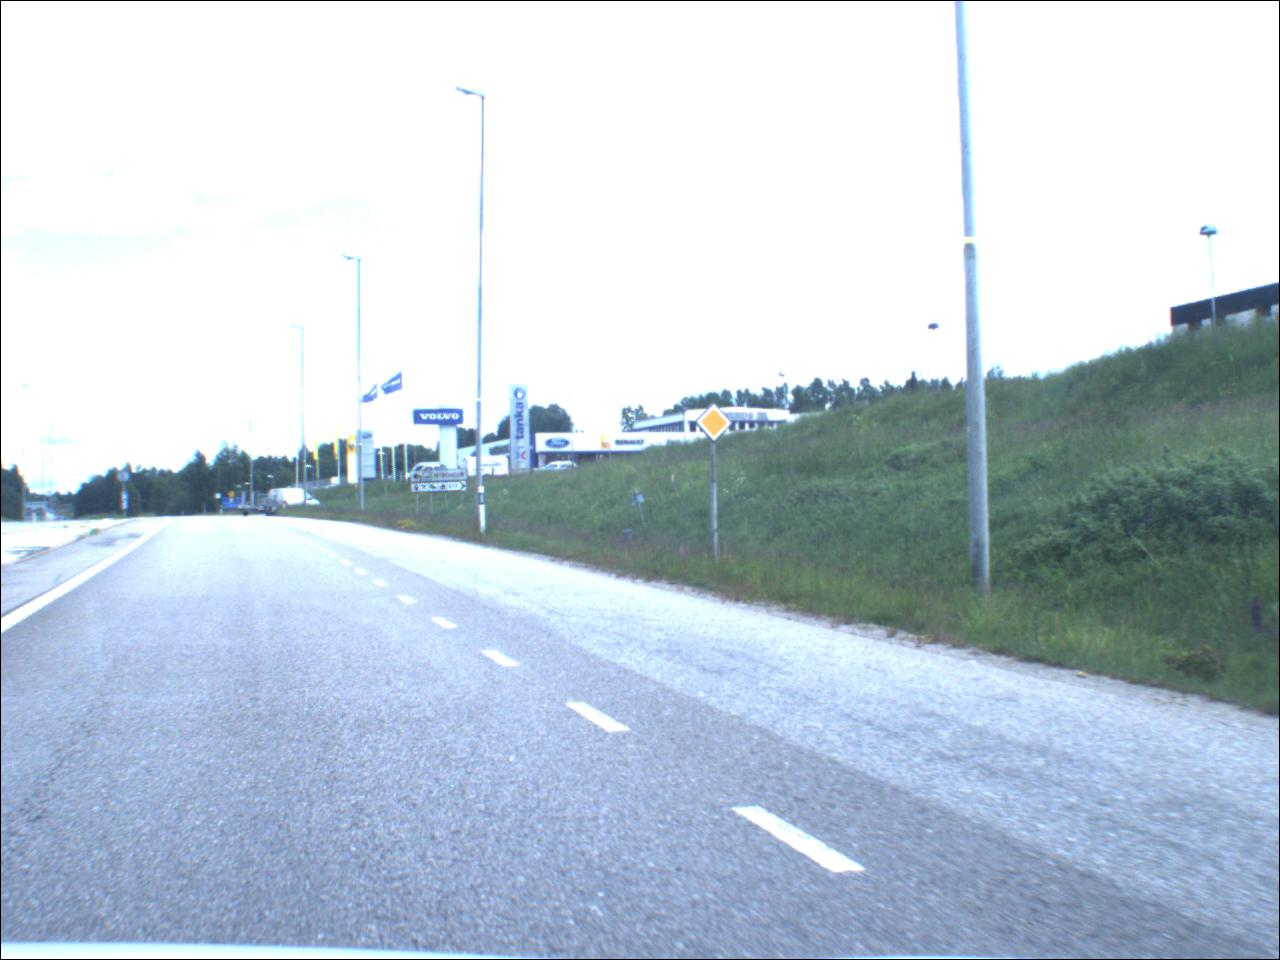PRIORITY_ROAD: (698, 403, 735, 444)
